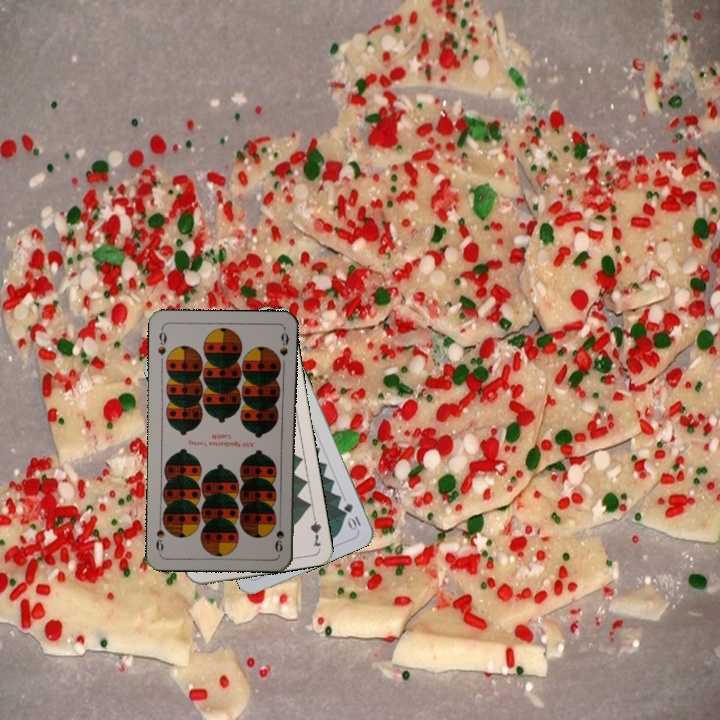G10: (340, 499, 363, 533)
G7: (306, 509, 324, 549)
S9: (271, 515, 286, 554), (154, 325, 170, 358)
